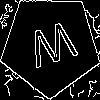W: (25, 20, 82, 78)
